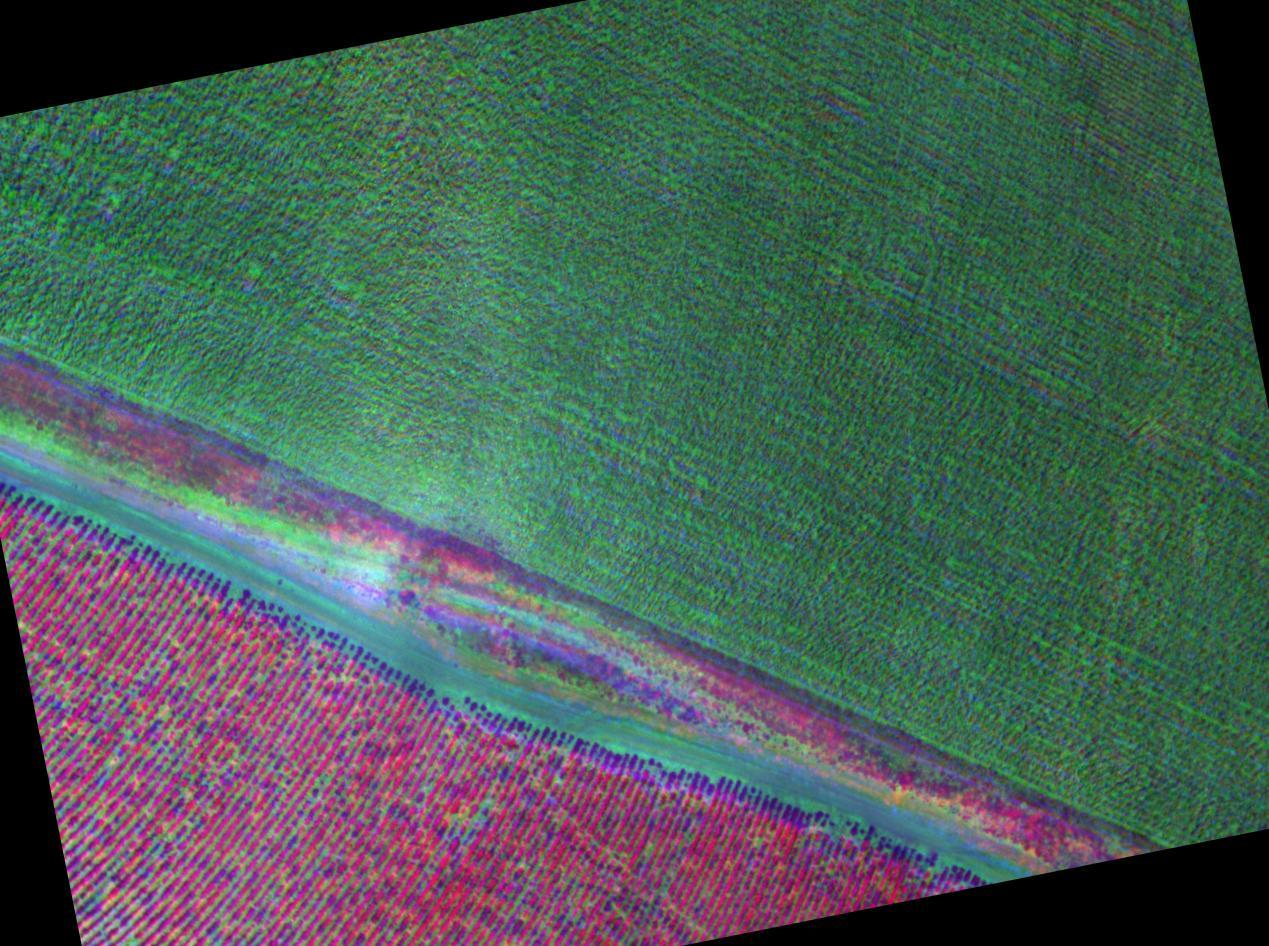dc: (220, 752, 299, 805), (30, 598, 78, 678), (125, 683, 182, 750), (436, 797, 506, 850), (631, 840, 690, 900)
